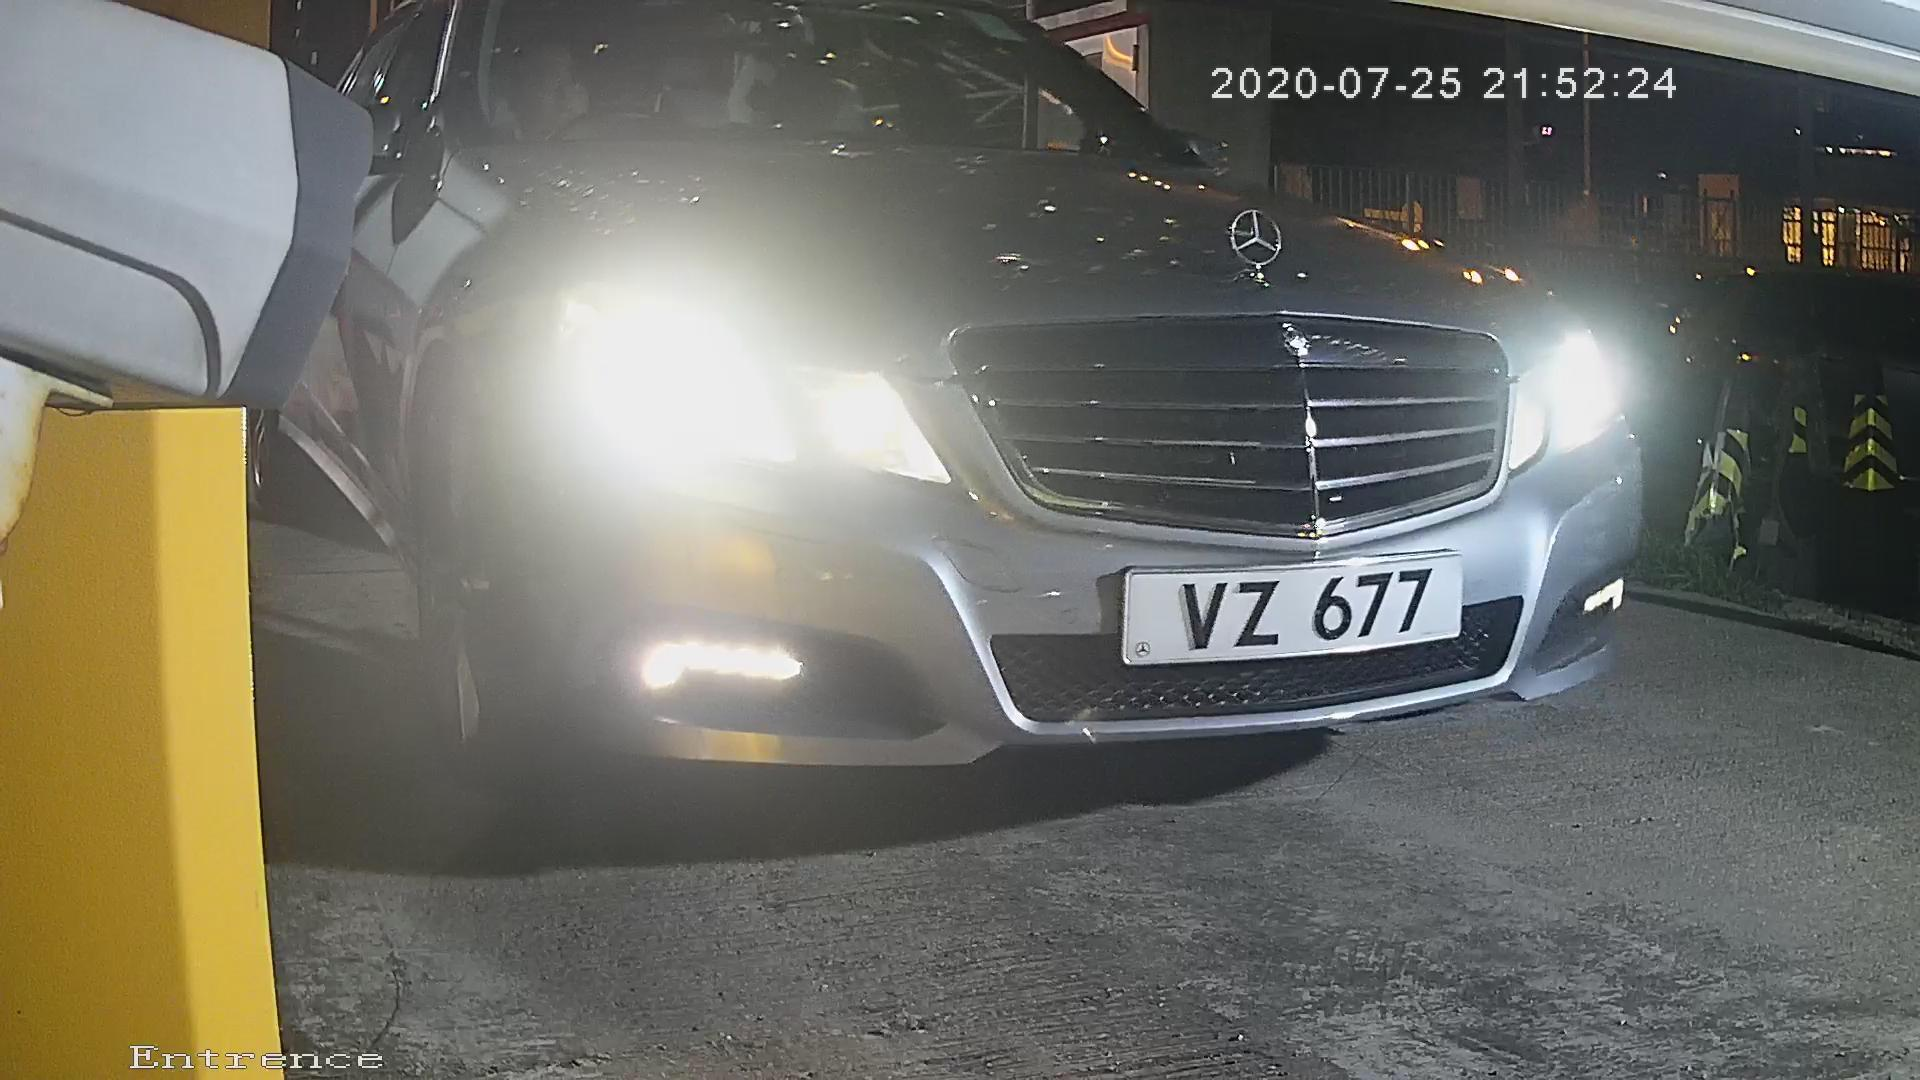privatecar: (386, 15, 1698, 849)
